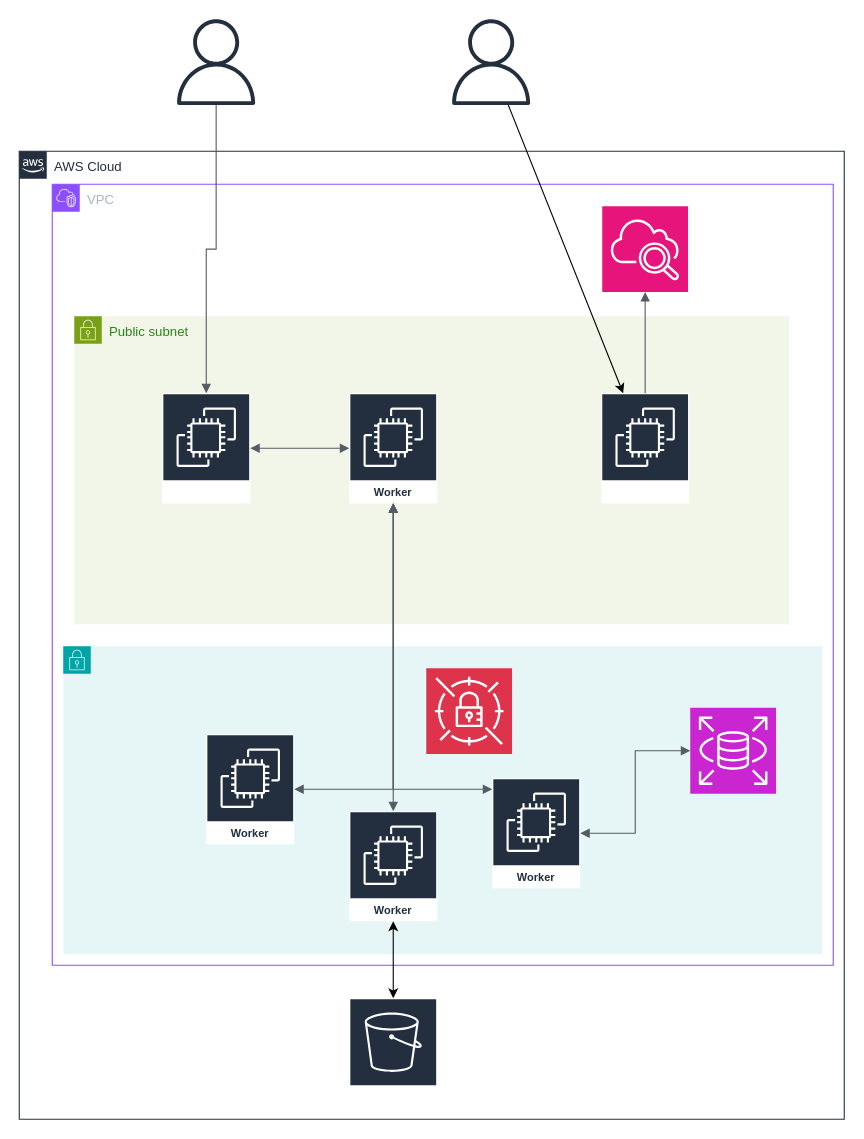
Some shapes in this 864 by 1139 pixel diagram are drawn without their labels. Each missing label, with the box of its shape:
Amazon S3: (348, 997, 437, 1108)
Private subnet: (62, 645, 822, 954)
submit: (161, 392, 250, 503)
Webapp: (600, 392, 689, 503)
